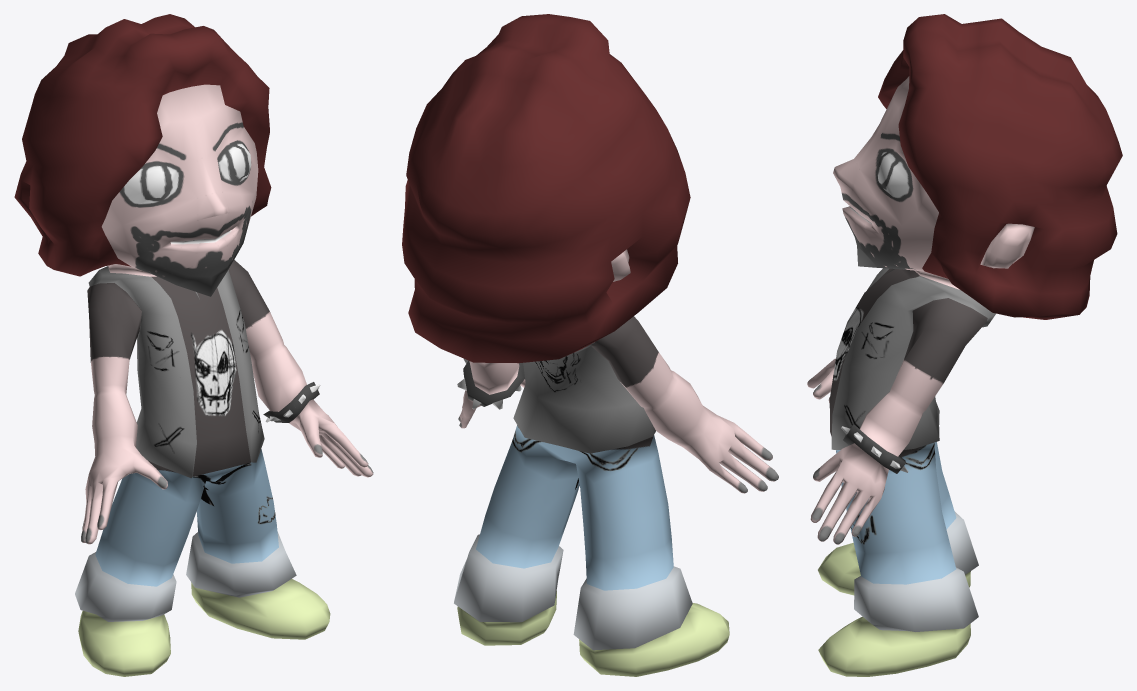
Rendered from rockero_rigging_000069.obj.
The picture shows the model from 3 angles, left to right: view 1: azimuth 30°, elevation 25°; view 2: azimuth 150°, elevation 25°; view 3: azimuth 270°, elevation 25°; orthographic projection. The views are drawn at different scales.
Parts seen in each view (by area): view 1: Cylinder.001; view 2: Cylinder.001; view 3: Cylinder.001.
Boxes of the visible parts, x1,y1,x2,y2 form: Cylinder.001: (14,14,373,676); Cylinder.001: (402,14,778,676); Cylinder.001: (807,14,1122,676).
Size of the model in its own units: 2.45 by 4.76 by 2.28.
1 material, 1 textured.
